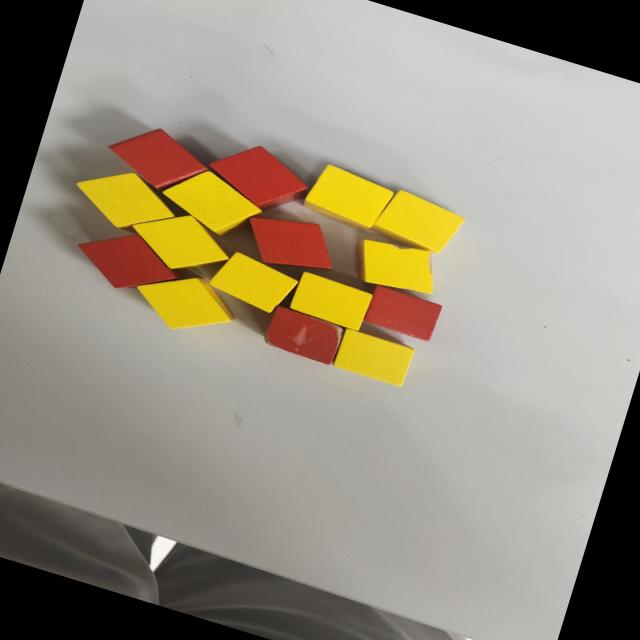broken: (345, 229, 445, 303), (260, 302, 346, 366)
red: (200, 133, 316, 224), (100, 116, 216, 206), (70, 218, 187, 304), (240, 204, 342, 280), (363, 282, 444, 343)
yellow: (154, 158, 268, 245), (122, 200, 236, 284), (67, 157, 182, 240), (132, 262, 242, 346), (364, 183, 468, 260), (301, 161, 398, 235), (204, 246, 301, 316), (286, 268, 374, 332), (329, 326, 416, 390)
